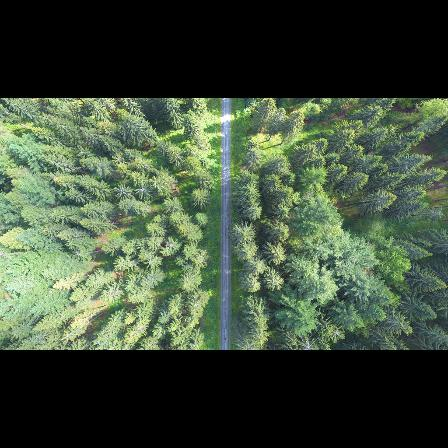Sick: (323, 323, 346, 341), (298, 336, 318, 350), (111, 152, 125, 166), (136, 184, 151, 197), (116, 183, 127, 197)
